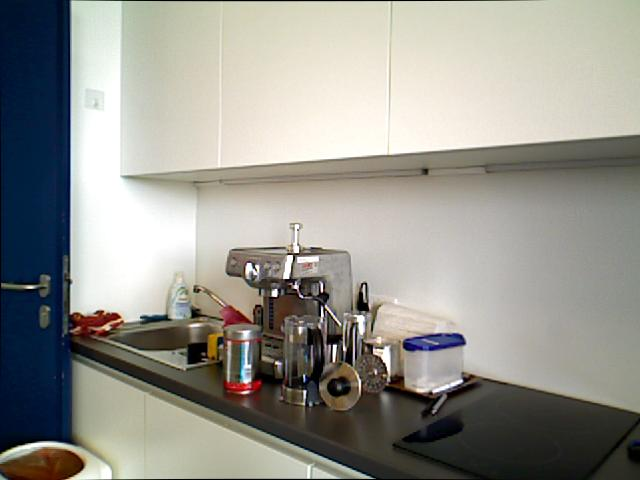bench: (166, 271, 191, 320)
couch: (100, 314, 248, 358)
handbag: (278, 312, 333, 407), (339, 309, 374, 376)
